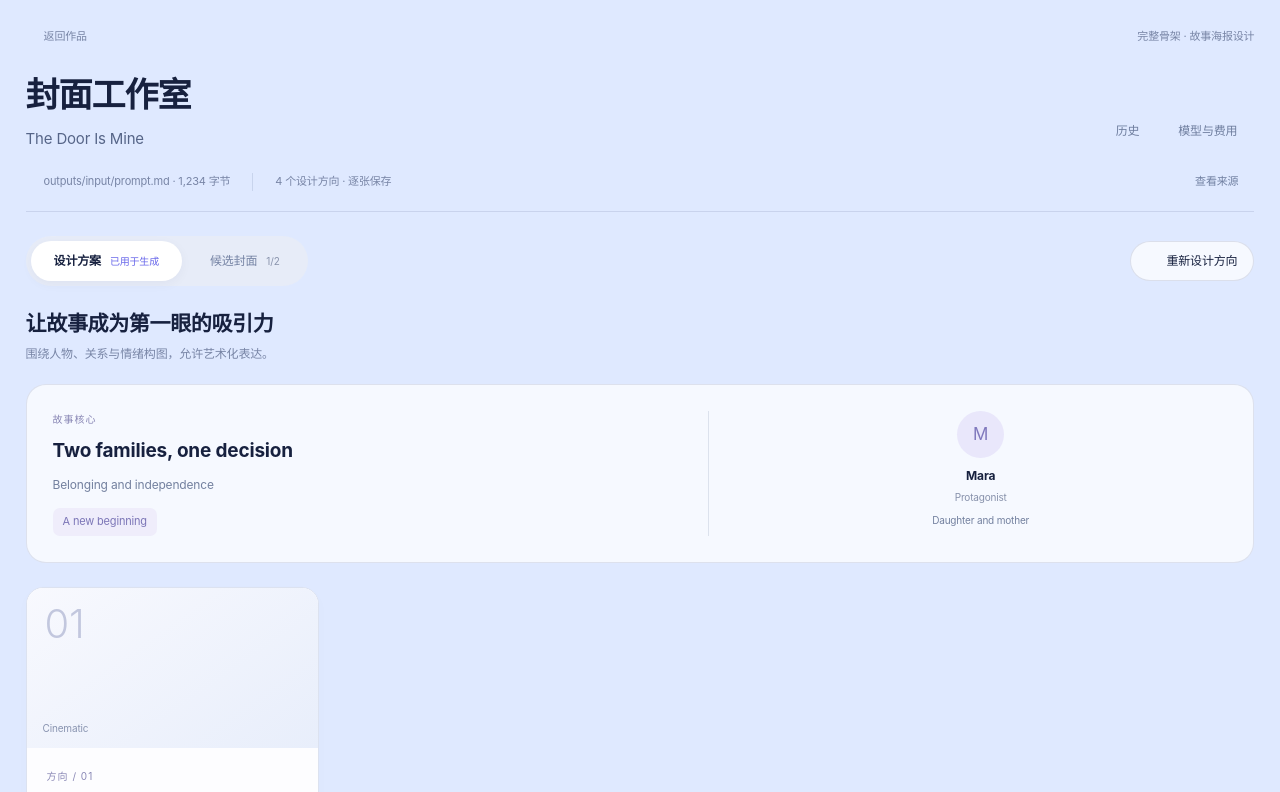
Test: full source viewing and completed-plan history do not launch an analysis chain
This screenshot has width=1280, height=792.
Expected: the heading "Two families, one decision" is shown, [53,439,293,462]
Step 1. Click the button "查看来源" → (1225, 182), box [1195,174,1254,191]
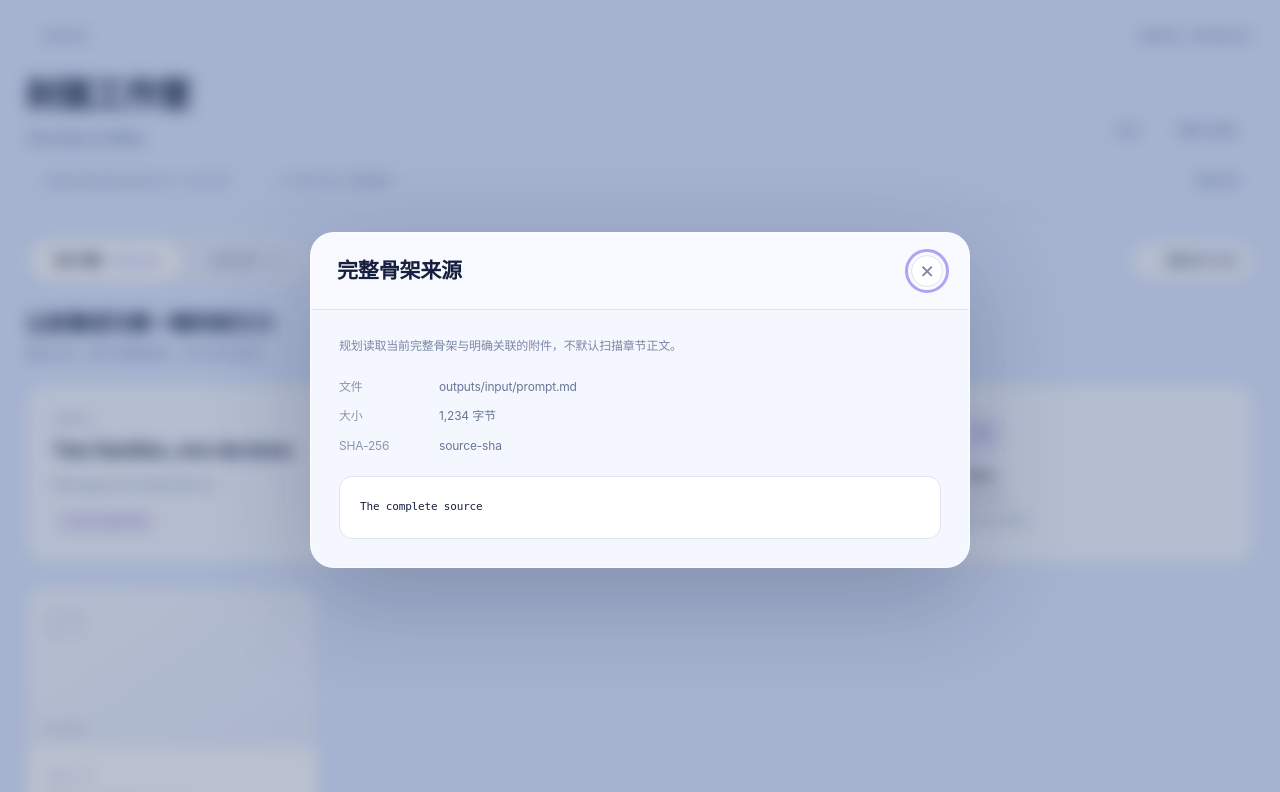
Expected: the text "The complete source" is shown, [339,476,941,539]
